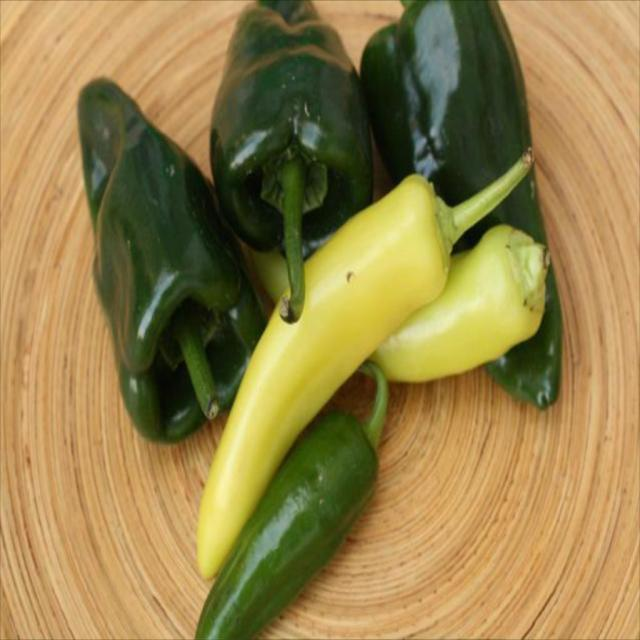Bell pepper: (363, 5, 563, 417), (73, 78, 267, 451), (211, 1, 375, 323)
